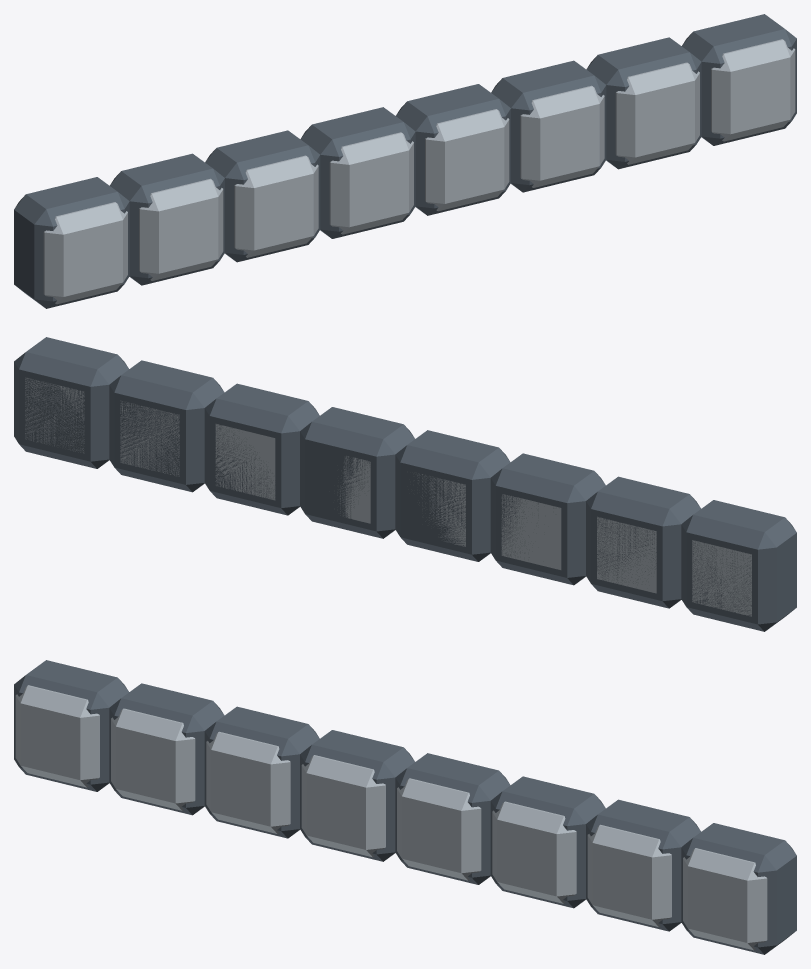
File: Terrain_Block8x1.gltf
3 views of the same model, one above another, from view 1: azimuth 30°, elevation 25°; view 2: azimuth 150°, elevation 25°; view 3: azimuth 330°, elevation 25° (orthographic).
Parts seen in each view (by area): view 1: Terrain_Block8x1_baked; view 2: Terrain_Block8x1_baked; view 3: Terrain_Block8x1_baked.
Part boxes in pixels (x1,y1,x2,y2): Terrain_Block8x1_baked: [14, 14, 796, 308]; Terrain_Block8x1_baked: [14, 337, 796, 631]; Terrain_Block8x1_baked: [14, 660, 796, 954].
Bounding box in the file's own units: 8 × 1 × 0.7.
